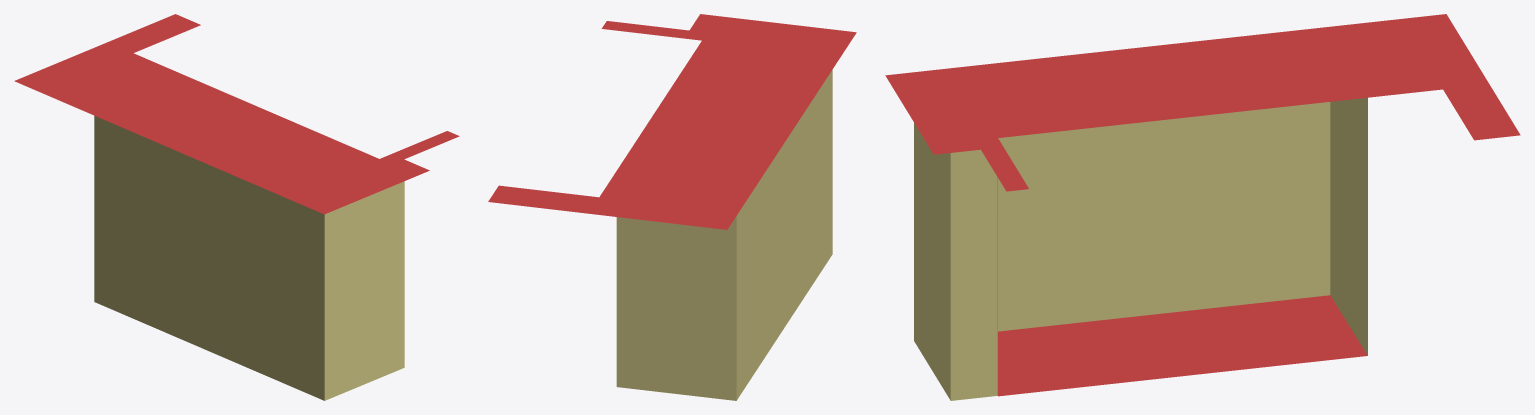
The picture shows the model from 3 angles, left to right: view 1: azimuth 30°, elevation 25°; view 2: azimuth 150°, elevation 25°; view 3: azimuth 270°, elevation 25°; orthographic projection. The views are drawn at different scales.
Size of the model in its own units: 8.93 by 13.51 by 6.06.
